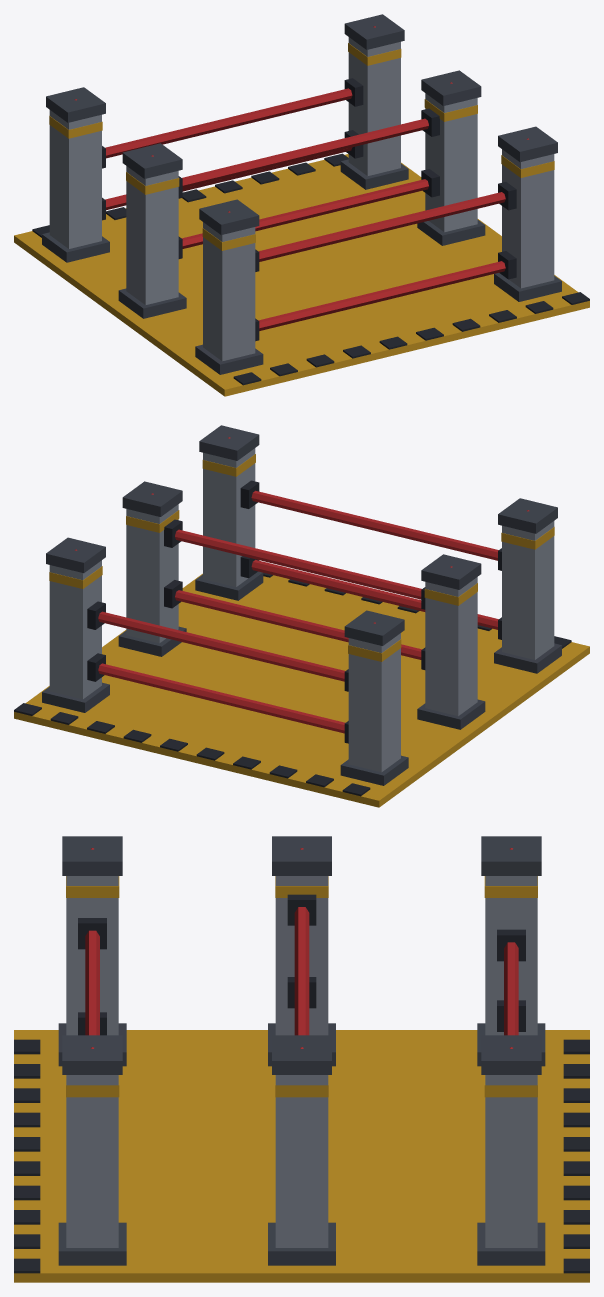
The model's file is Decor_GoldVault_Lasers.fbx.
The picture shows the model from 3 angles, top to bottom: view 1: azimuth 30°, elevation 25°; view 2: azimuth 150°, elevation 25°; view 3: azimuth 270°, elevation 25°; orthographic projection. The views are drawn at different scales.
Visible parts, largest first — view 1: Lasers_Body; view 2: Lasers_Body; view 3: Lasers_Body.
Boxes of the visible parts, x1,y1,x2,y2 form: Lasers_Body: (14, 14, 589, 396); Lasers_Body: (14, 425, 589, 807); Lasers_Body: (14, 836, 589, 1282).
Bounding box in the file's own units: 22 × 9 × 22.
